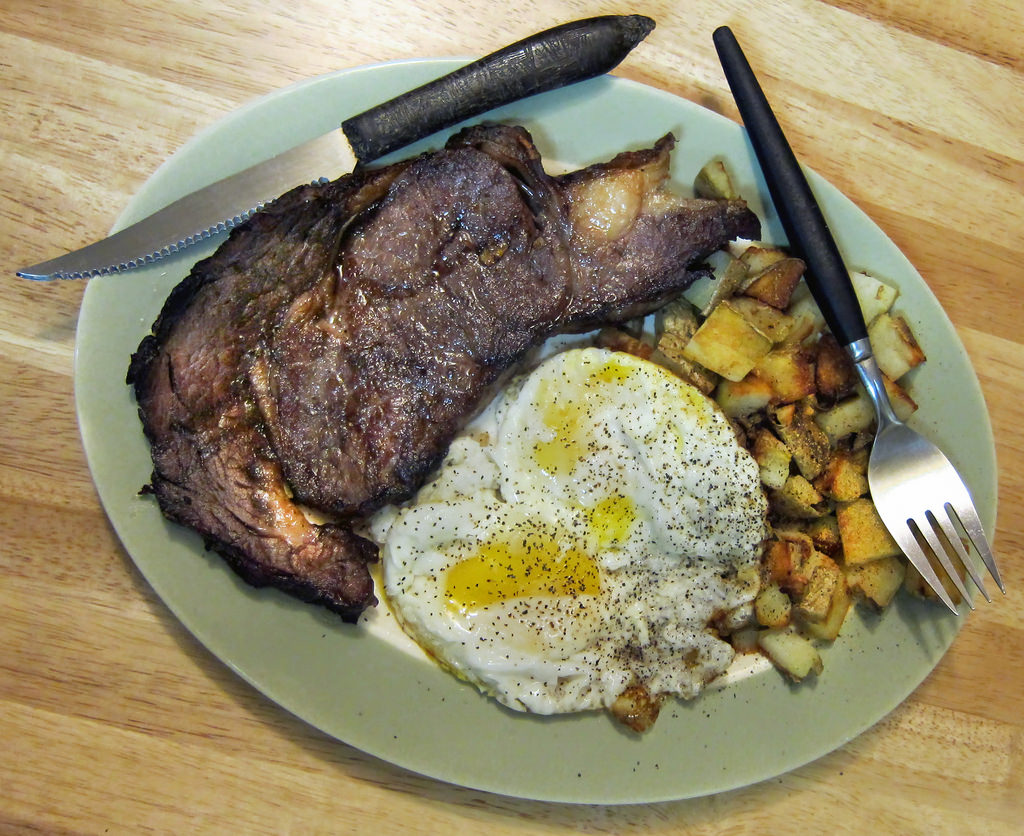fried egg: (517, 384, 737, 725)
